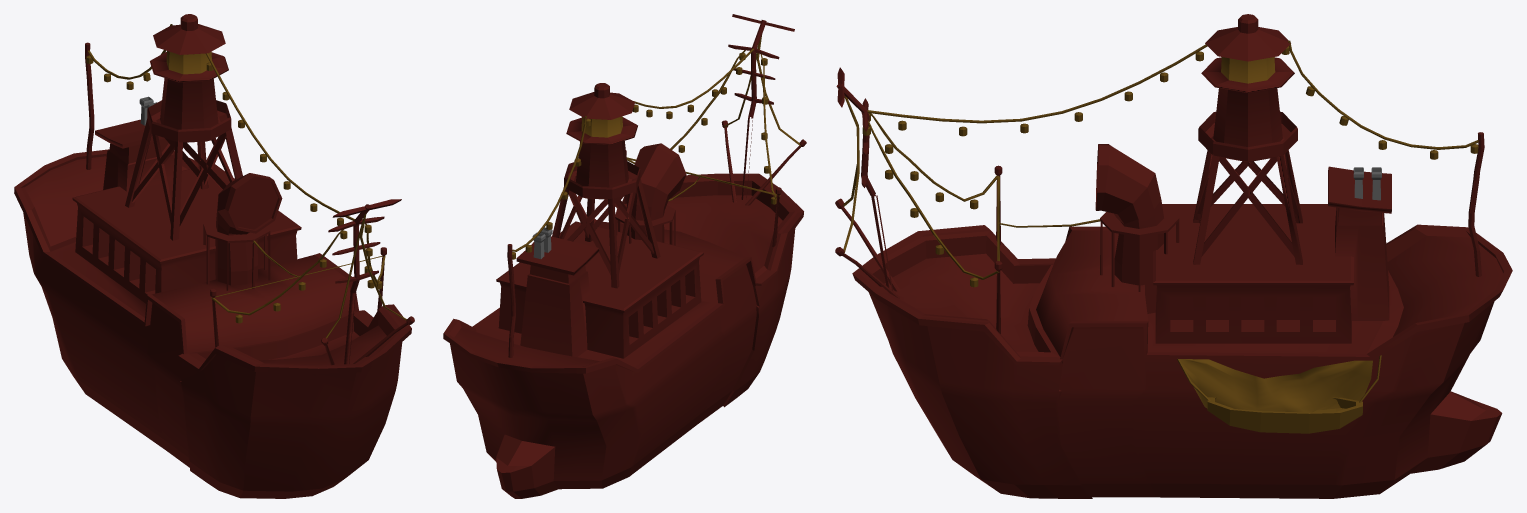
Rendered from lightsboat02.fbx.
3 views of the same model, side by side, from view 1: azimuth 30°, elevation 25°; view 2: azimuth 150°, elevation 25°; view 3: azimuth 270°, elevation 25° (orthographic). The views are drawn at different scales.
Parts seen in each view (by area): view 1: polySurface29 (×2); view 2: polySurface29 (×3); view 3: polySurface29 (×2).
Part boxes in pixels (x1=…): polySurface29 (×2): x1=14, y1=14, x2=414, y2=498; polySurface29 (×3): x1=443, y1=14, x2=806, y2=498; polySurface29 (×2): x1=835, y1=14, x2=1512, y2=498.
Bounding box in the file's own units: 4.58 × 8.15 × 11.23.
